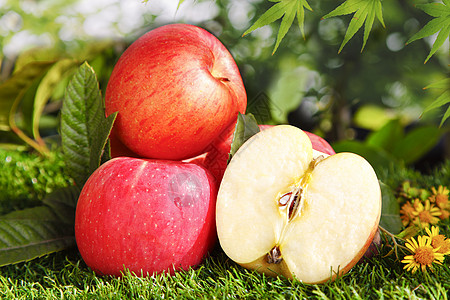apple: (101, 23, 246, 160), (74, 158, 220, 273)
